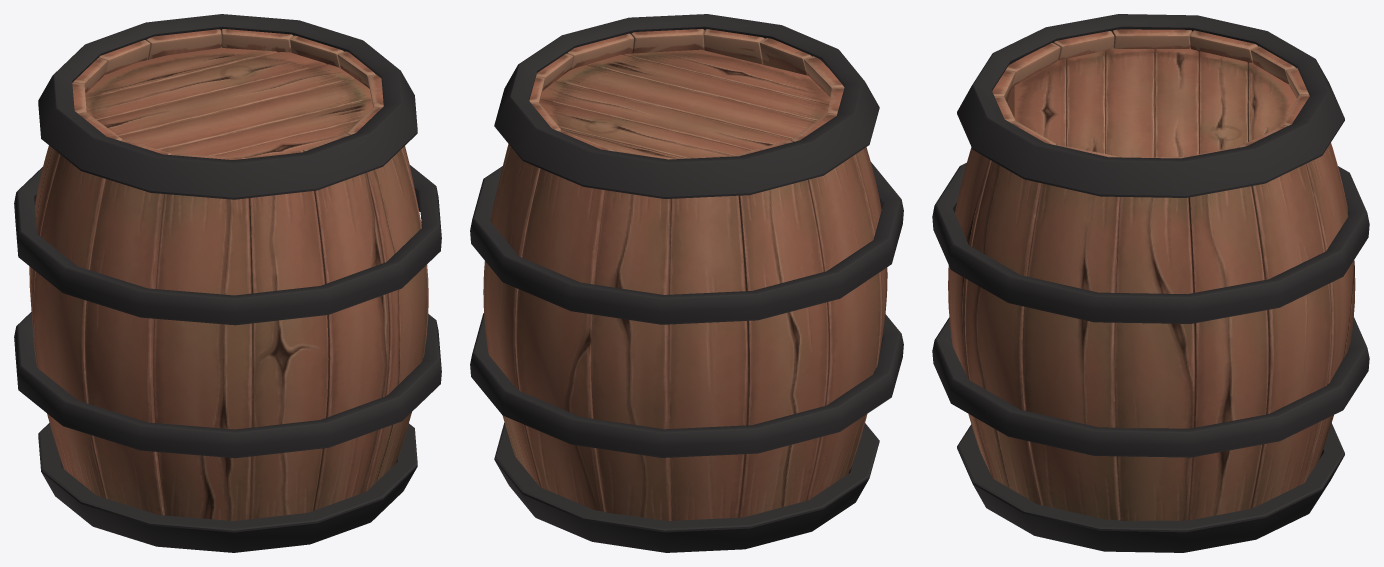
The model's file is barrel.fbx.
3 views of the same model, side by side, from view 1: azimuth 30°, elevation 25°; view 2: azimuth 150°, elevation 25°; view 3: azimuth 270°, elevation 25° (orthographic).
Parts seen in each view (by area): view 1: Main002; view 2: Main002; view 3: Main002.
Boxes of the visible parts, x1,y1,x2,y2 form: Main002: [14, 14, 441, 552]; Main002: [470, 14, 903, 552]; Main002: [932, 14, 1369, 552].
Bounding box in the file's own units: 0.7842 × 0.7866 × 0.7969.
